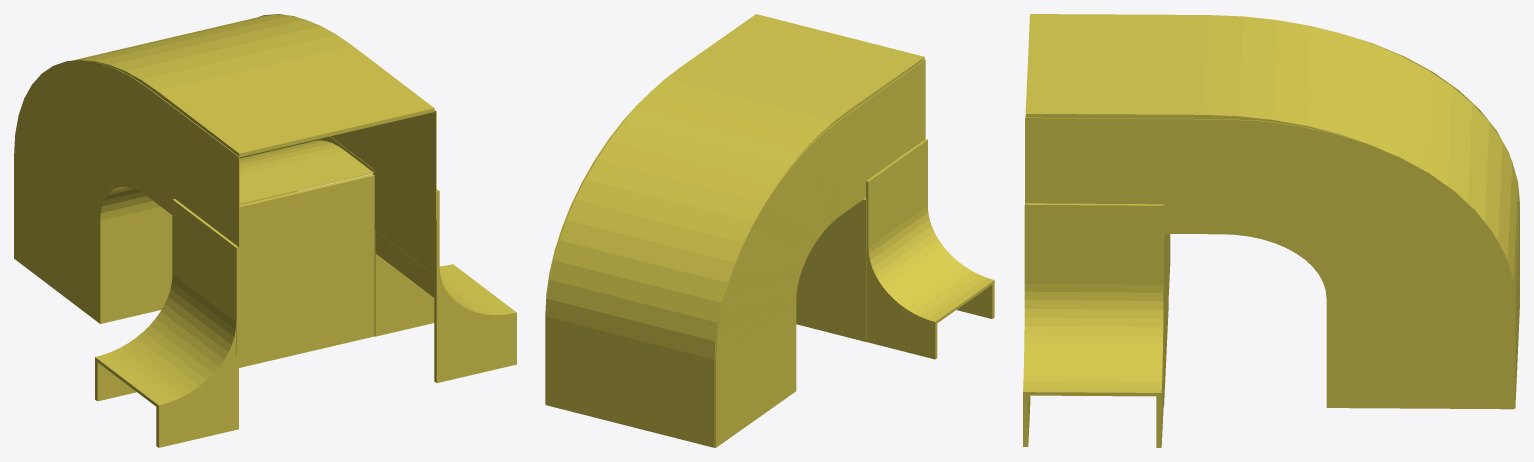
File: panduit-4x4-spillover (1).glb
The picture shows the model from 3 angles, left to right: view 1: azimuth 30°, elevation 25°; view 2: azimuth 150°, elevation 25°; view 3: azimuth 270°, elevation 25°; orthographic projection. The views are drawn at different scales.
Visible parts, largest first — view 1: Mesh_Mesh_head_geo.001_lambert2SG.001; view 2: Mesh_Mesh_head_geo.001_lambert2SG.001; view 3: Mesh_Mesh_head_geo.001_lambert2SG.001.
Boxes of the visible parts, x1,y1,x2,y2 form: Mesh_Mesh_head_geo.001_lambert2SG.001: (14,14,516,447); Mesh_Mesh_head_geo.001_lambert2SG.001: (545,14,994,447); Mesh_Mesh_head_geo.001_lambert2SG.001: (1023,14,1519,447).
Size of the model in its own units: 38.02 by 28.14 by 43.45.
